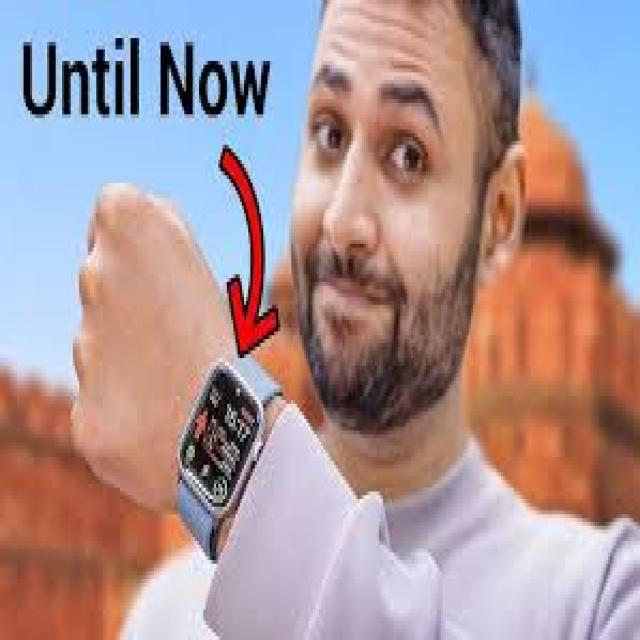objects: (164, 352, 290, 554)
